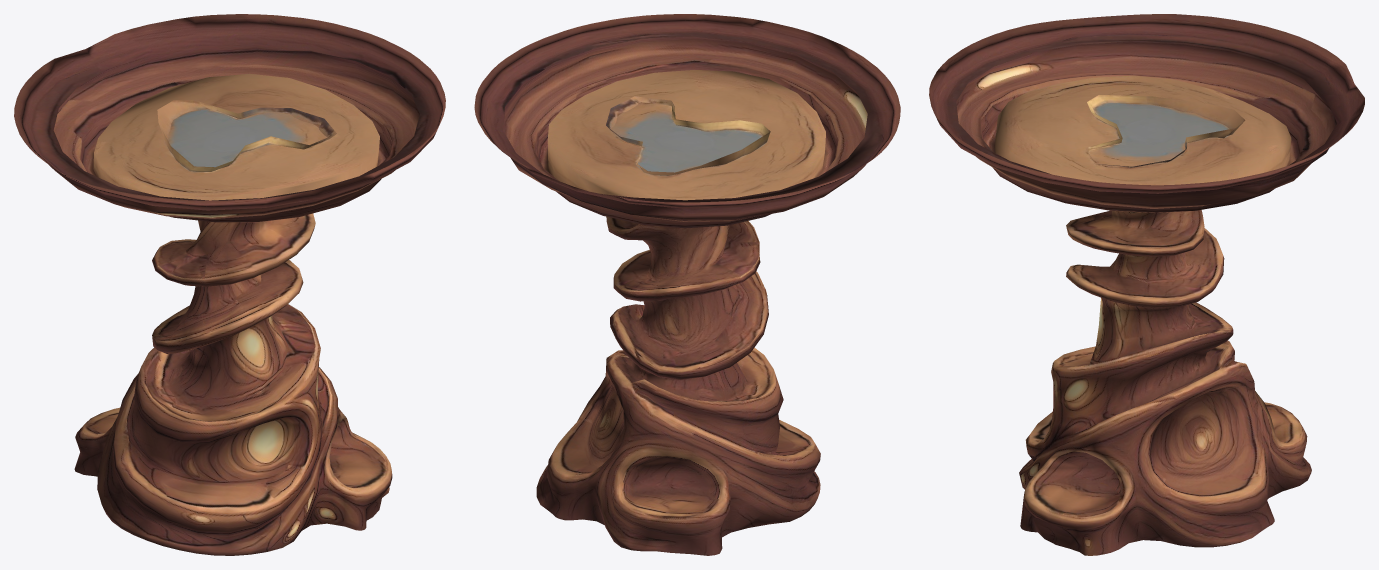
File: column.glb
The picture shows the model from 3 angles, left to right: view 1: azimuth 30°, elevation 25°; view 2: azimuth 150°, elevation 25°; view 3: azimuth 270°, elevation 25°; orthographic projection. The views are drawn at different scales.
Parts seen in each view (by area): view 1: column; view 2: column; view 3: column.
Part boxes in pixels (x1,y1,x2,y2): column: [14, 14, 445, 555]; column: [474, 14, 900, 555]; column: [929, 14, 1364, 555].
Size of what is drawn, in the model's own units: 4.66 by 4.76 by 4.68.
1 material, 1 textured.
